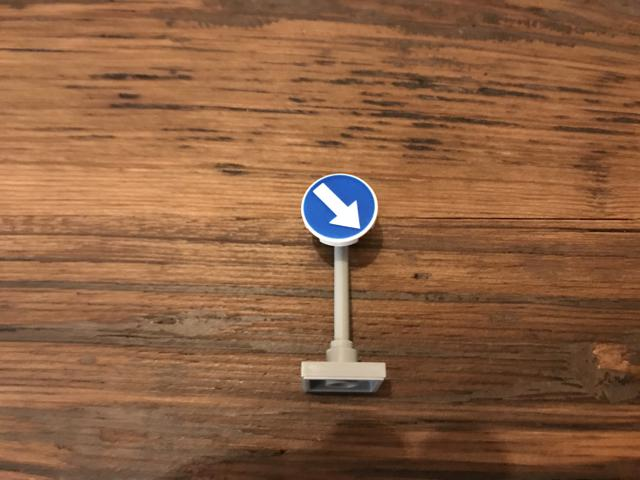rechts halten: (300, 171, 380, 245)
